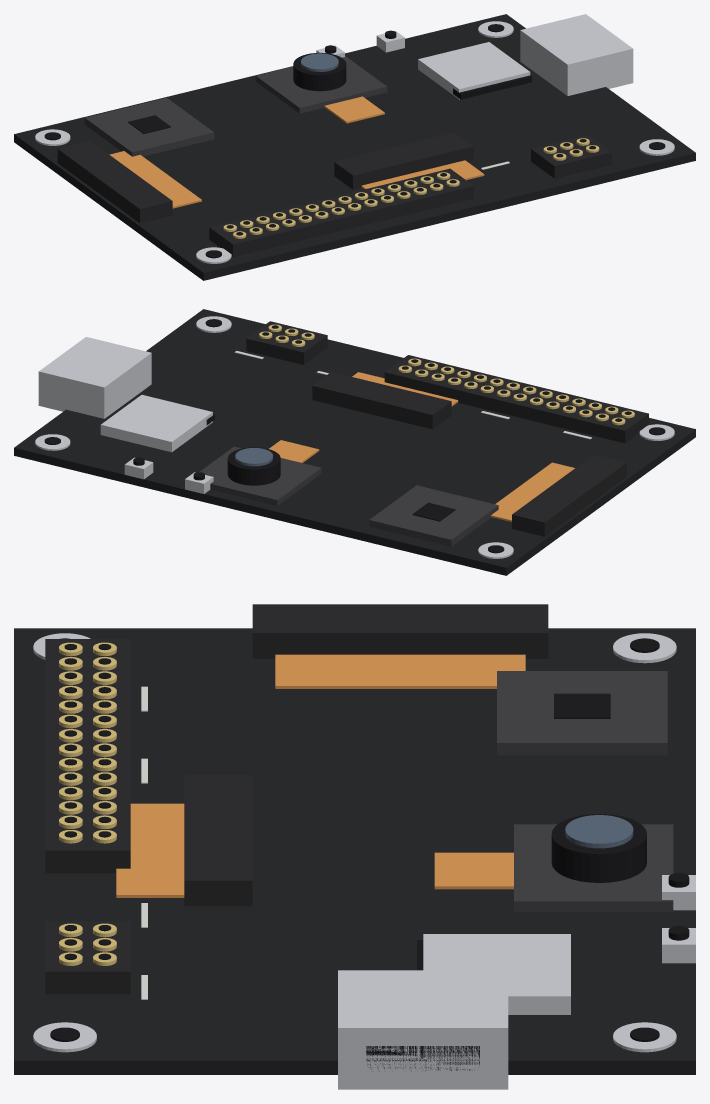
File: embedfire-cam.glb
3 renders of one model, top to bottom at view 1: azimuth 30°, elevation 25°; view 2: azimuth 150°, elevation 25°; view 3: azimuth 270°, elevation 25°, orthographic. The views are drawn at different scales.
Visible parts, largest first — view 1: pcb, header-1, usb, lcd-socket, processor, fpc, sd, camera, header-2, lcd-ribbon, camera-lens, camera-ribbon (+5 smaller); view 2: pcb, usb, header-1, lcd-socket, processor, fpc, sd, camera, header-2, lcd-ribbon, camera-lens, camera-ribbon (+4 smaller); view 3: pcb, usb, lcd-socket, processor, header-1, fpc, camera, lcd-ribbon, sd, fpc-ribbon, header-2, camera-lens (+9 smaller).
Part boxes in pixels (x1=…): pcb: x1=14, y1=14, x2=695, y2=280; header-1: x1=209, y1=168, x2=473, y2=256; usb: x1=520, y1=14, x2=633, y2=95; lcd-socket: x1=57, y1=141, x2=172, y2=223; processor: x1=84, y1=97, x2=214, y2=156; fpc: x1=334, y1=132, x2=473, y2=189; sd: x1=418, y1=42, x2=530, y2=99; camera: x1=255, y1=56, x2=387, y2=113; header-2: x1=531, y1=135, x2=611, y2=178; lcd-ribbon: x1=109, y1=151, x2=201, y2=208; camera-lens: x1=293, y1=52, x2=346, y2=91; camera-ribbon: x1=324, y1=96, x2=384, y2=123; pcb: x1=14, y1=309, x2=695, y2=575; usb: x1=38, y1=337, x2=151, y2=418; header-1: x1=384, y1=355, x2=648, y2=443; lcd-socket: x1=512, y1=454, x2=626, y2=536; processor: x1=369, y1=485, x2=498, y2=546; fpc: x1=312, y1=372, x2=451, y2=429; sd: x1=100, y1=395, x2=212, y2=452; camera: x1=199, y1=446, x2=321, y2=505; header-2: x1=246, y1=321, x2=327, y2=364; lcd-ribbon: x1=491, y1=462, x2=574, y2=521; camera-lens: x1=227, y1=447, x2=280, y2=485; camera-ribbon: x1=269, y1=440, x2=319, y2=462; pcb: x1=14, y1=628, x2=695, y2=1074; usb: x1=338, y1=970, x2=508, y2=1089; lcd-socket: x1=252, y1=604, x2=548, y2=658; processor: x1=497, y1=671, x2=667, y2=755; header-1: x1=45, y1=639, x2=130, y2=873; fpc: x1=184, y1=775, x2=252, y2=906; camera: x1=514, y1=824, x2=673, y2=911; lcd-ribbon: x1=275, y1=654, x2=525, y2=688; sd: x1=423, y1=934, x2=570, y2=1014; fpc-ribbon: x1=116, y1=803, x2=184, y2=897; header-2: x1=45, y1=921, x2=130, y2=994; camera-lens: x1=551, y1=814, x2=646, y2=882.
Bounding box in the file's own units: 9.5 × 0.7 × 6.
